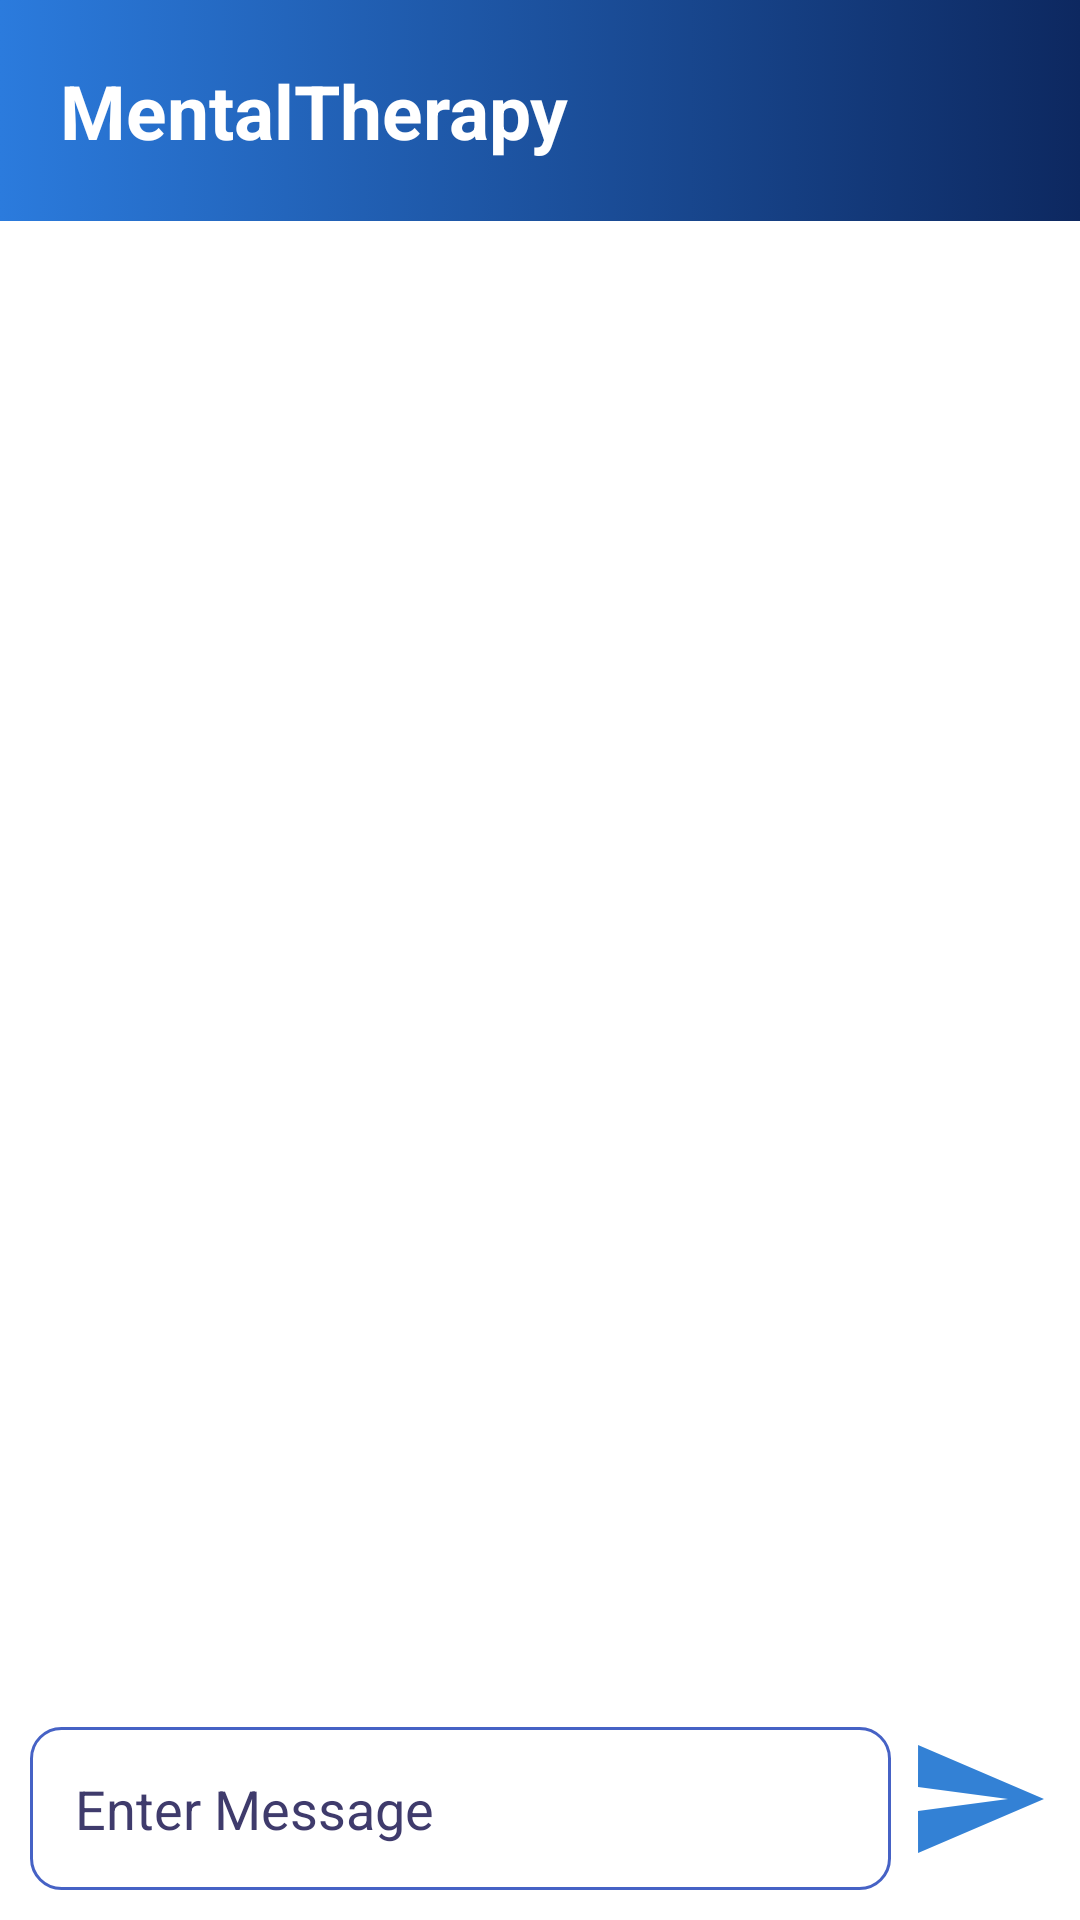

Named icons in this screenshot (1080px×1920px) and their bounding boxes, (x1, y1, x2, y2):
send: (918, 1745, 1044, 1853)
